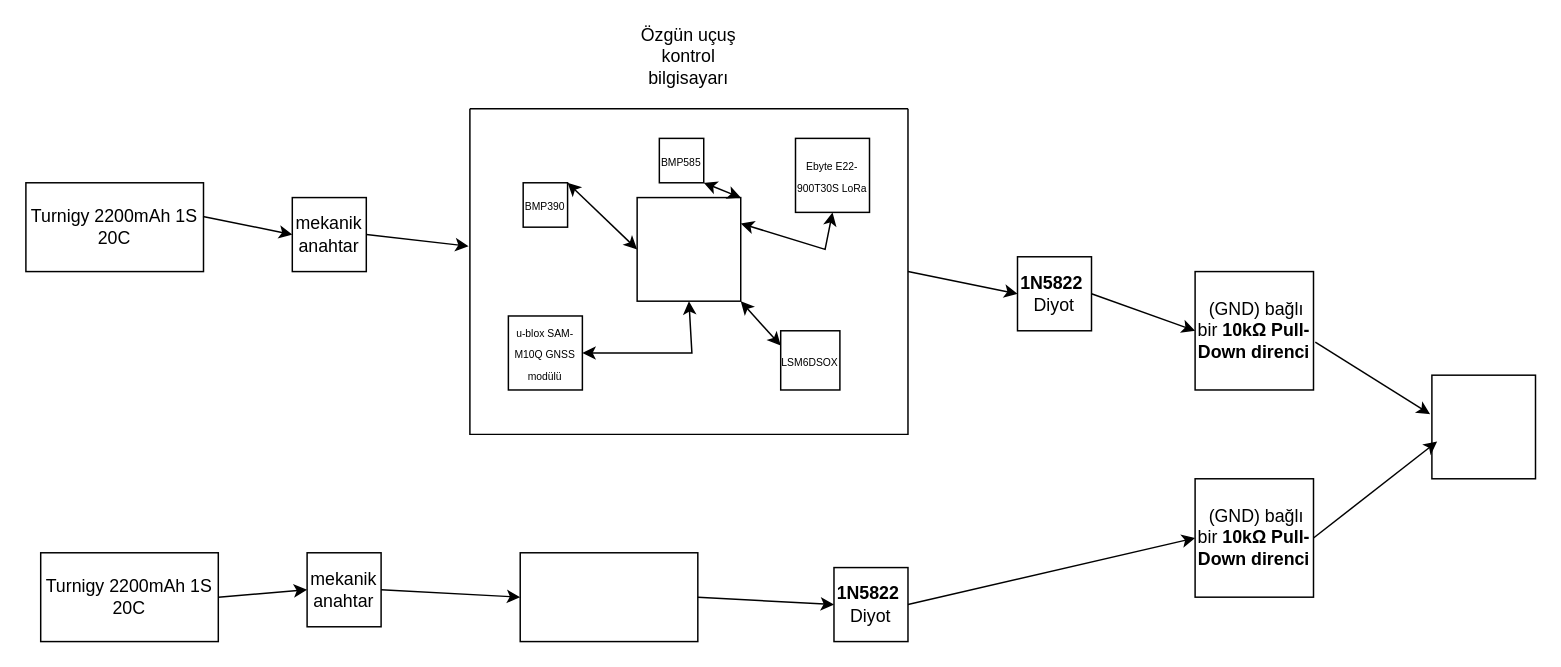
The diagram is 1561 pixels wide and 667 high, and some of its shapes have lost their labels. Each missing label, with the centre of its shape:
"ESP32-S3 mikrodenetleyici" belongs at [688,248].
"SGÜ" belongs at [1483,426].
"Skylogic V2" belongs at [608,596].
